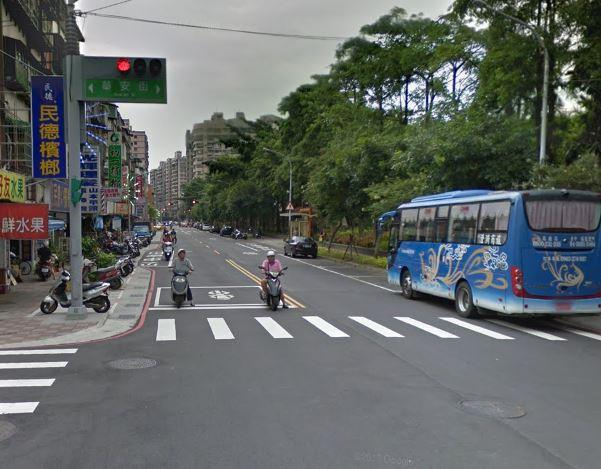red_traffic_light: (115, 55, 163, 74)
